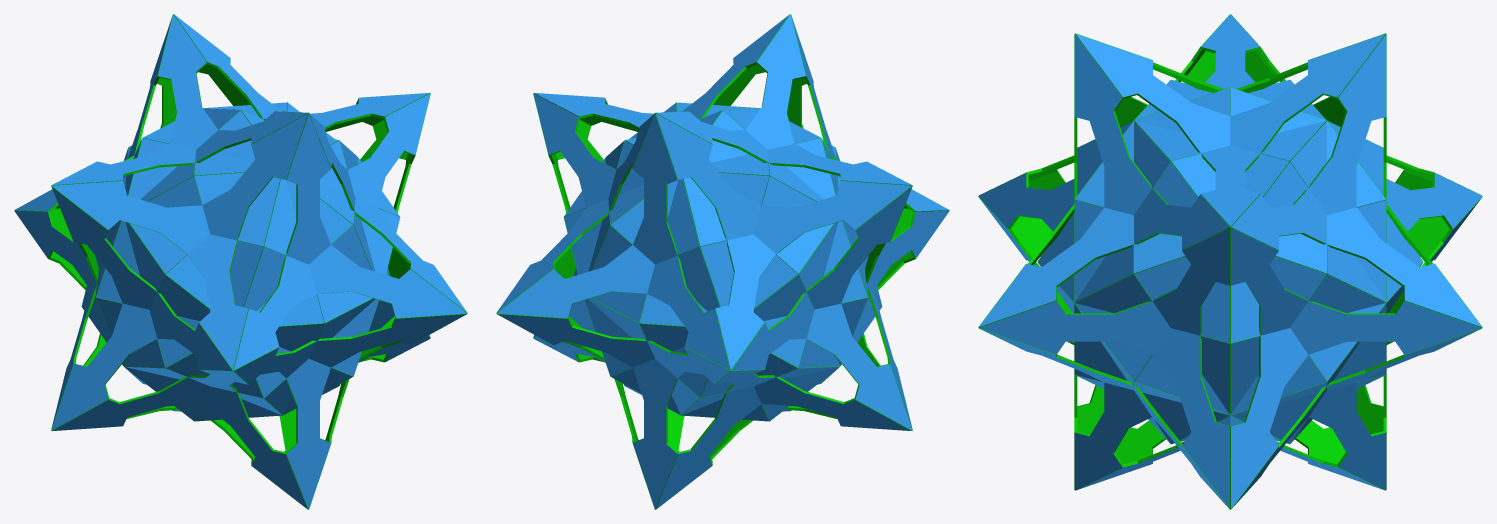
File: MedialRhombicTriacontahedronS.glb
The picture shows the model from 3 angles, left to right: view 1: azimuth 30°, elevation 25°; view 2: azimuth 150°, elevation 25°; view 3: azimuth 270°, elevation 25°; orthographic projection. The views are drawn at different scales.
Visible parts, largest first — view 1: root; view 2: root; view 3: root.
Part boxes in pixels (x1,y1,x2,y2): root: [14, 14, 467, 509]; root: [496, 14, 949, 509]; root: [978, 14, 1482, 509].
Size of the model in its own units: 8.5 by 8.5 by 8.5.
